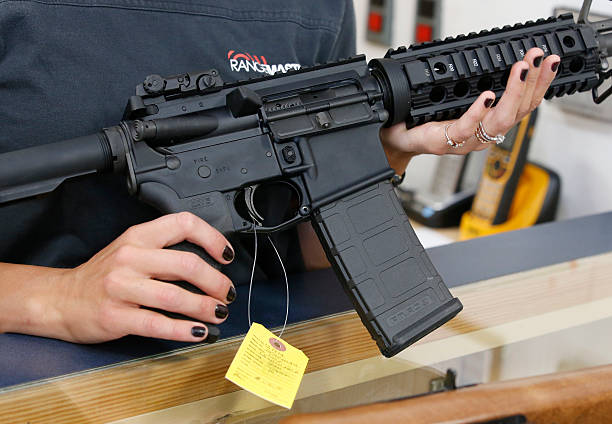rifle: (2, 7, 611, 367)
